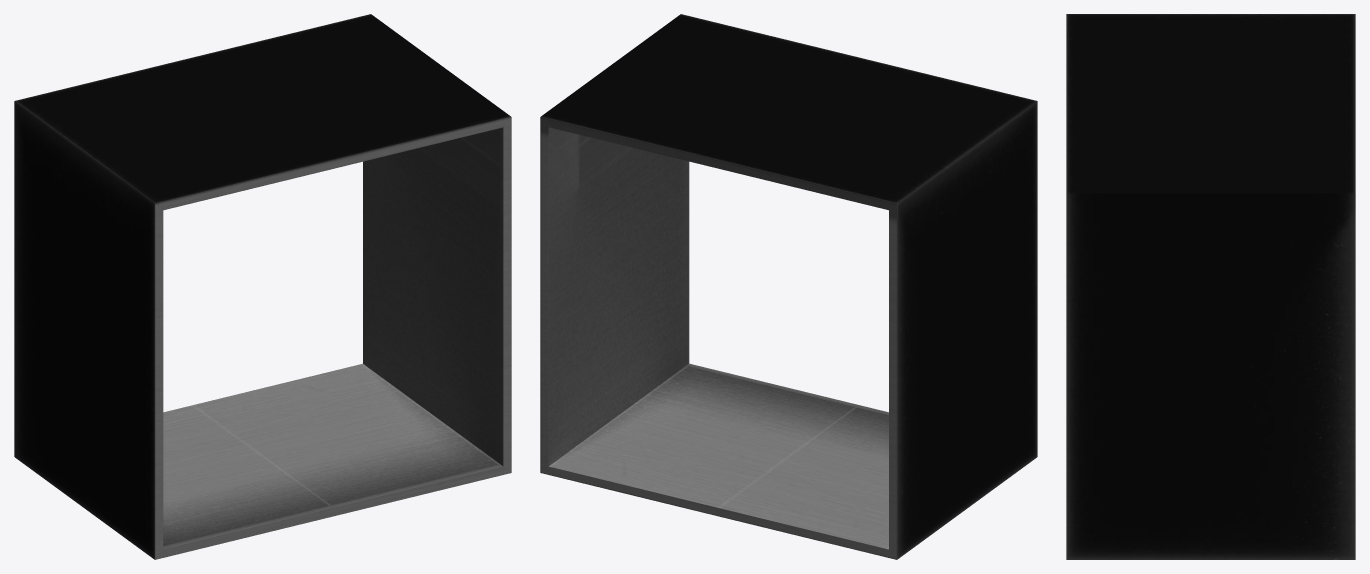
File: case_2.gltf
The picture shows the model from 3 angles, left to right: view 1: azimuth 30°, elevation 25°; view 2: azimuth 150°, elevation 25°; view 3: azimuth 270°, elevation 25°; orthographic projection. The views are drawn at different scales.
Visible parts, largest first — view 1: case_2; view 2: case_2; view 3: case_2.
Part boxes in pixels (x1,y1,x2,y2): case_2: [14, 14, 511, 559]; case_2: [540, 14, 1037, 559]; case_2: [1066, 14, 1355, 559].
Bounding box in the file's own units: 3.39 × 3.24 × 2.32.
Materials: 1 (1 with a texture image).
